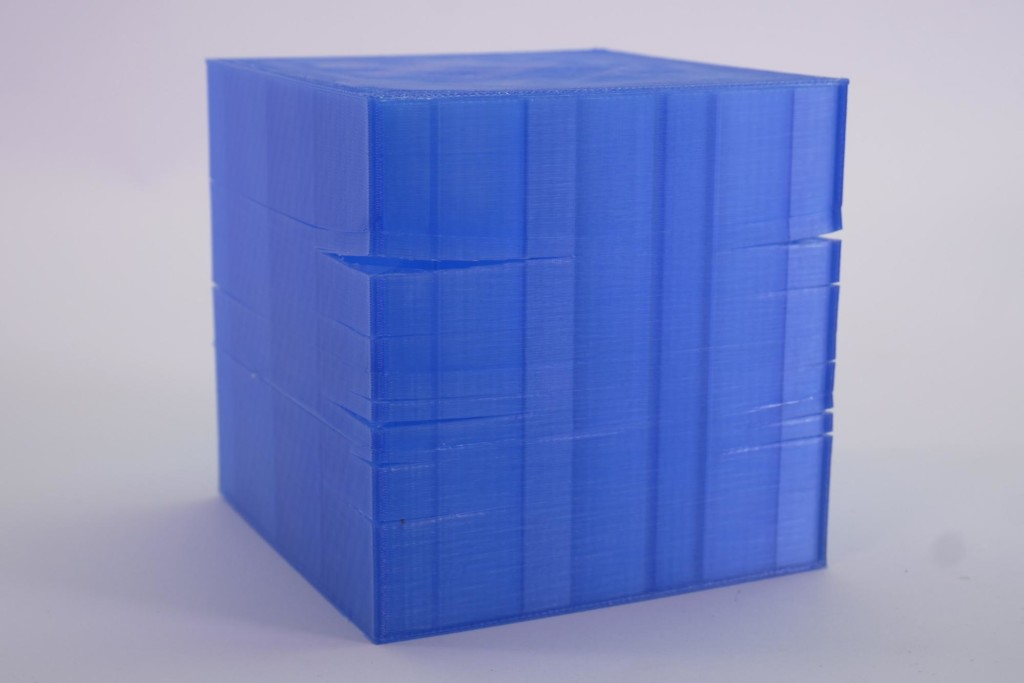crack: (293, 196, 595, 322), (286, 367, 540, 458), (662, 387, 862, 478), (715, 196, 864, 315), (302, 493, 586, 551)
